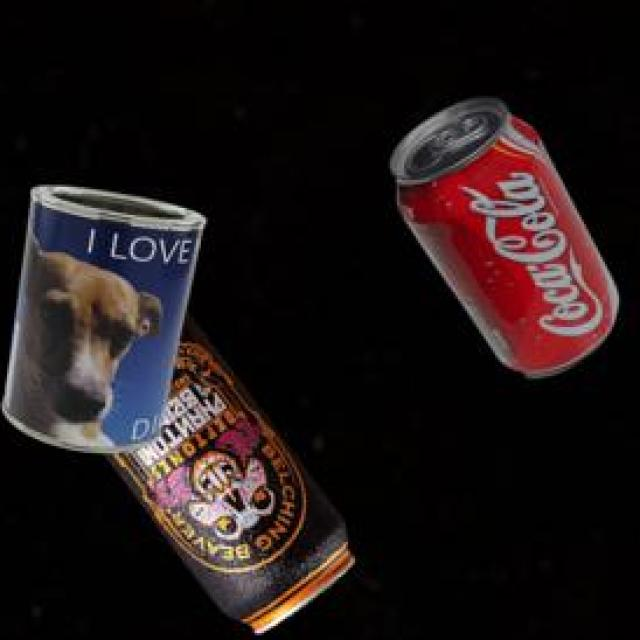logam: (109, 314, 359, 636), (394, 102, 622, 382), (6, 190, 209, 457)
